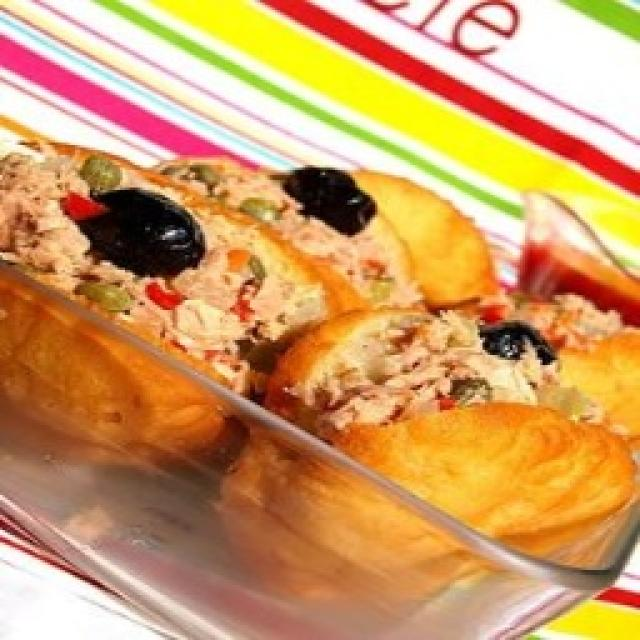Frecasse: (0, 135, 640, 575)
